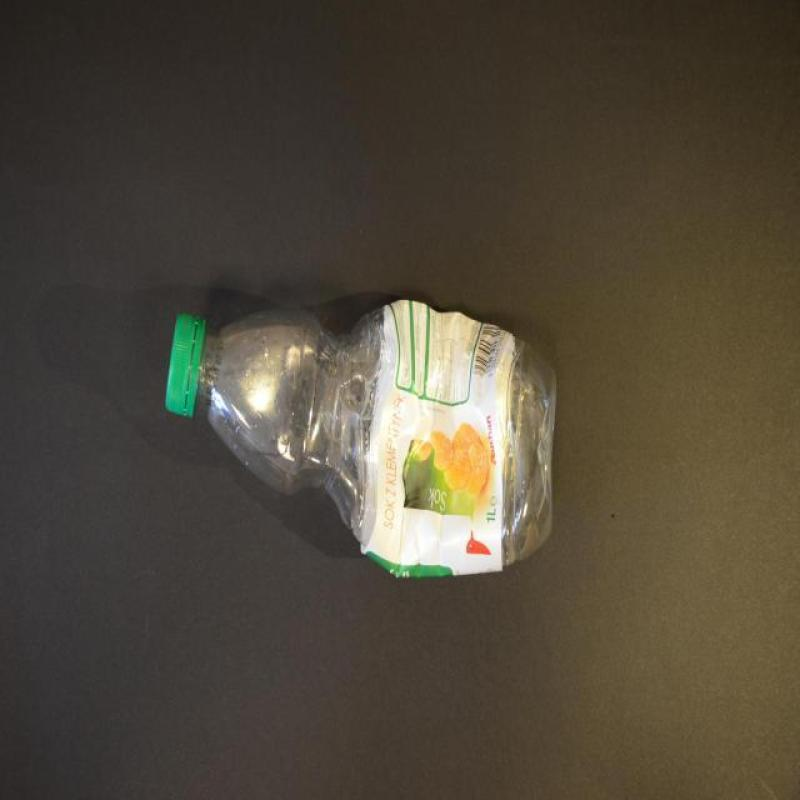botella: (164, 300, 572, 579)
